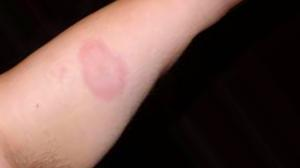Tick: (74, 34, 134, 105)
